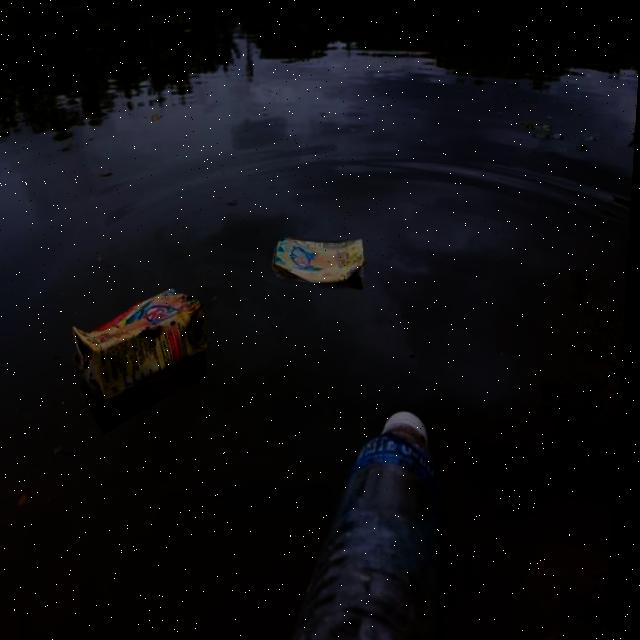paper: (50, 222, 220, 401), (247, 230, 390, 290)
waterbottle: (273, 367, 455, 640)
